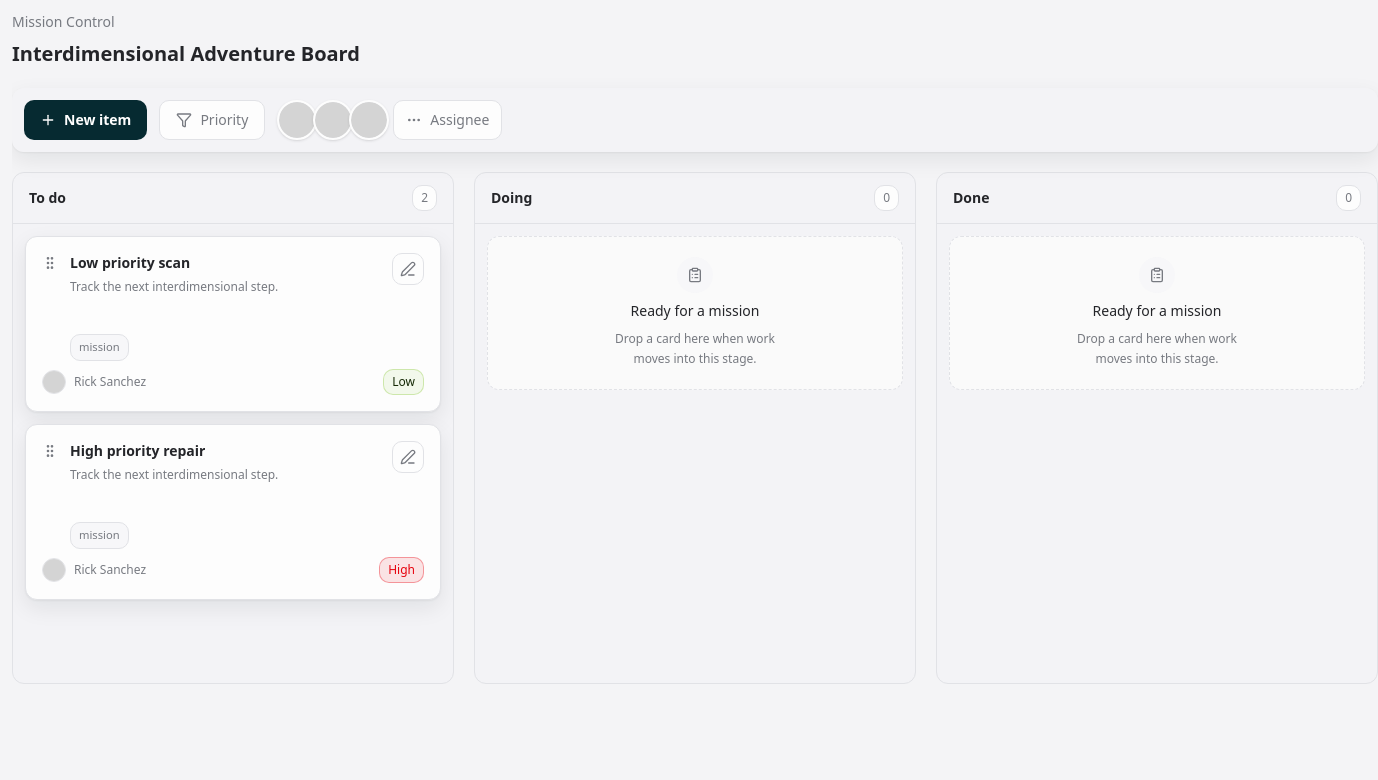
Scenario: KanbanBoard › filters cards by priority and shows the filtered empty state when nothing matches
Expected: the button "Low priority scan" is shown, [70,253,190,273]
Click the button "Priority". click: [212, 120]
box: [159,100,265,140]
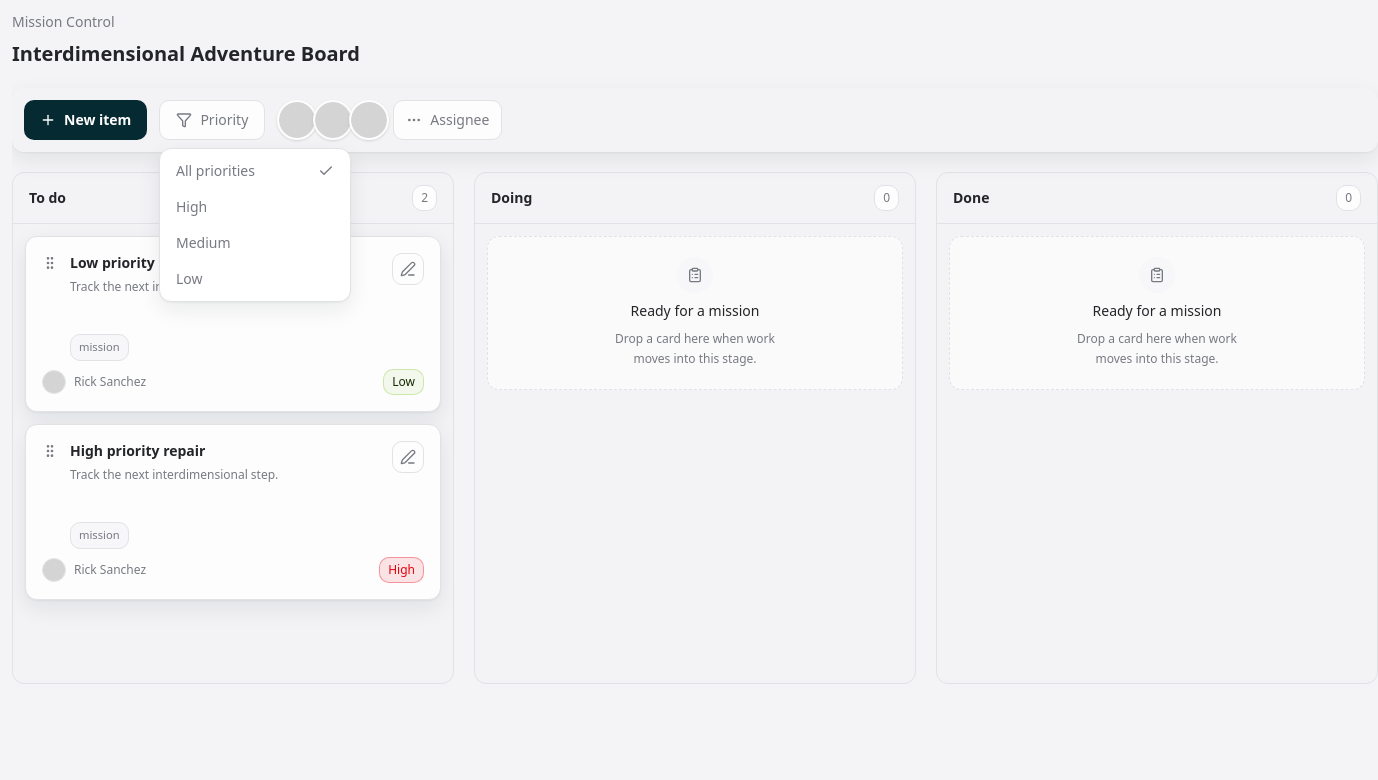
Click the menu item "High". click: [192, 206]
box: [176,197,207,216]
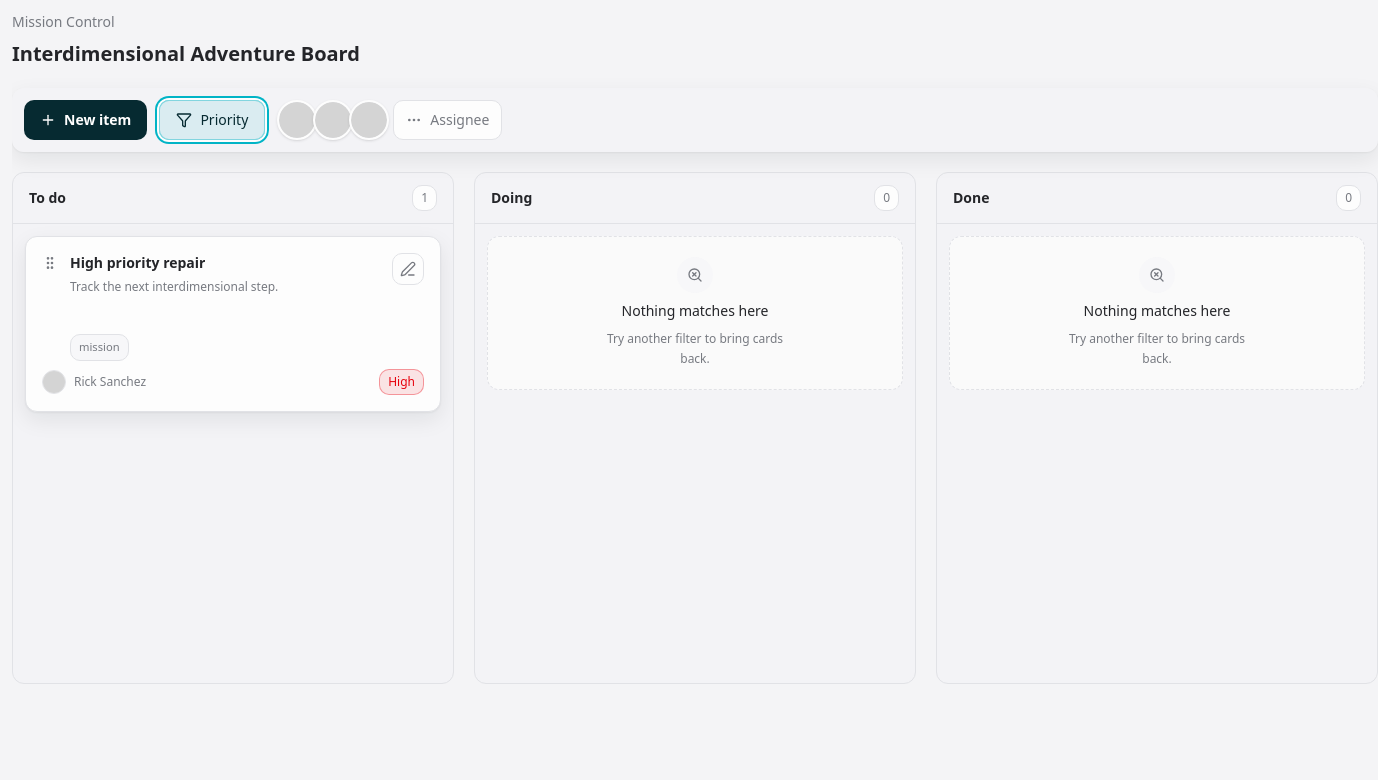
Expected: the button "High priority repair" is shown, [70,253,205,273]
Now the button "Low priority scan" is gone
Click the button "Priority". click: [212, 120]
box: [159,100,265,140]
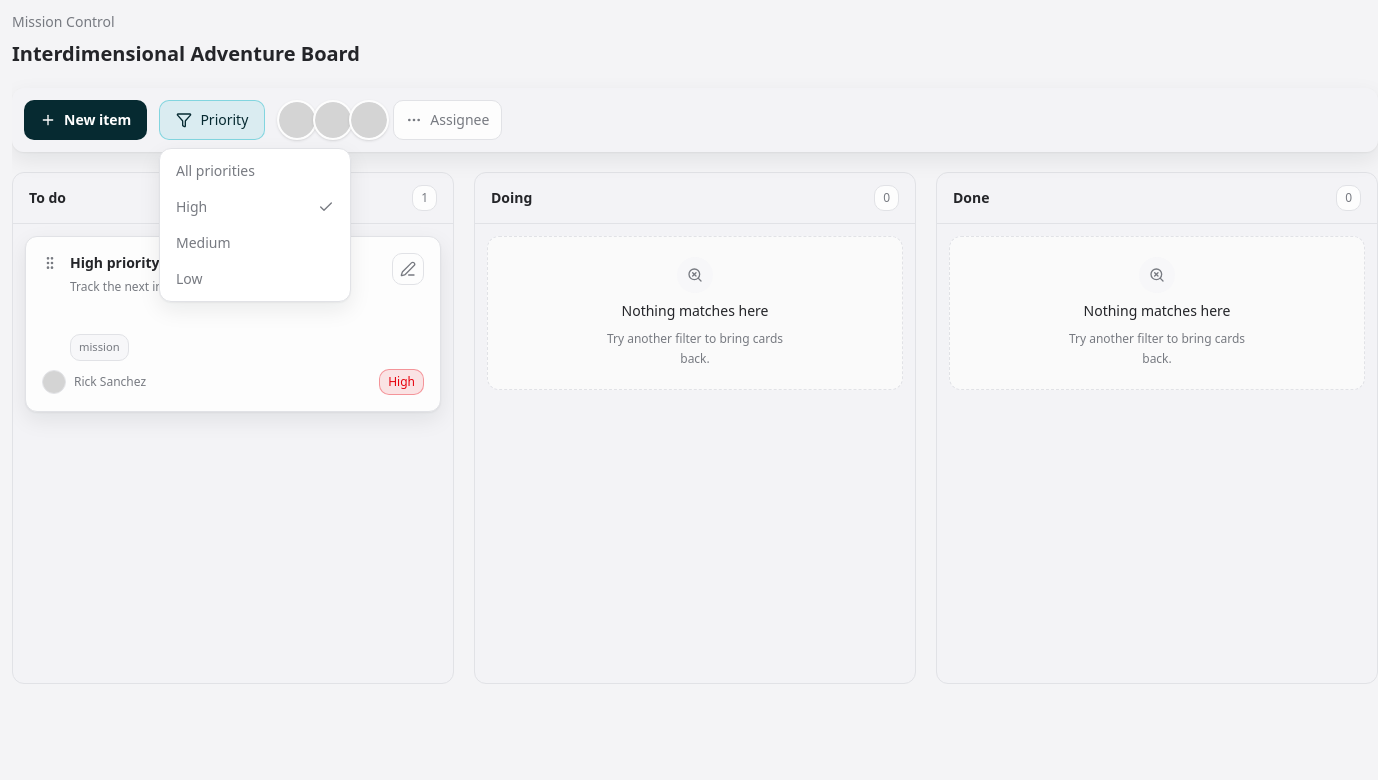
Click the menu item "Medium". click: [203, 242]
box: [176,233,231,252]
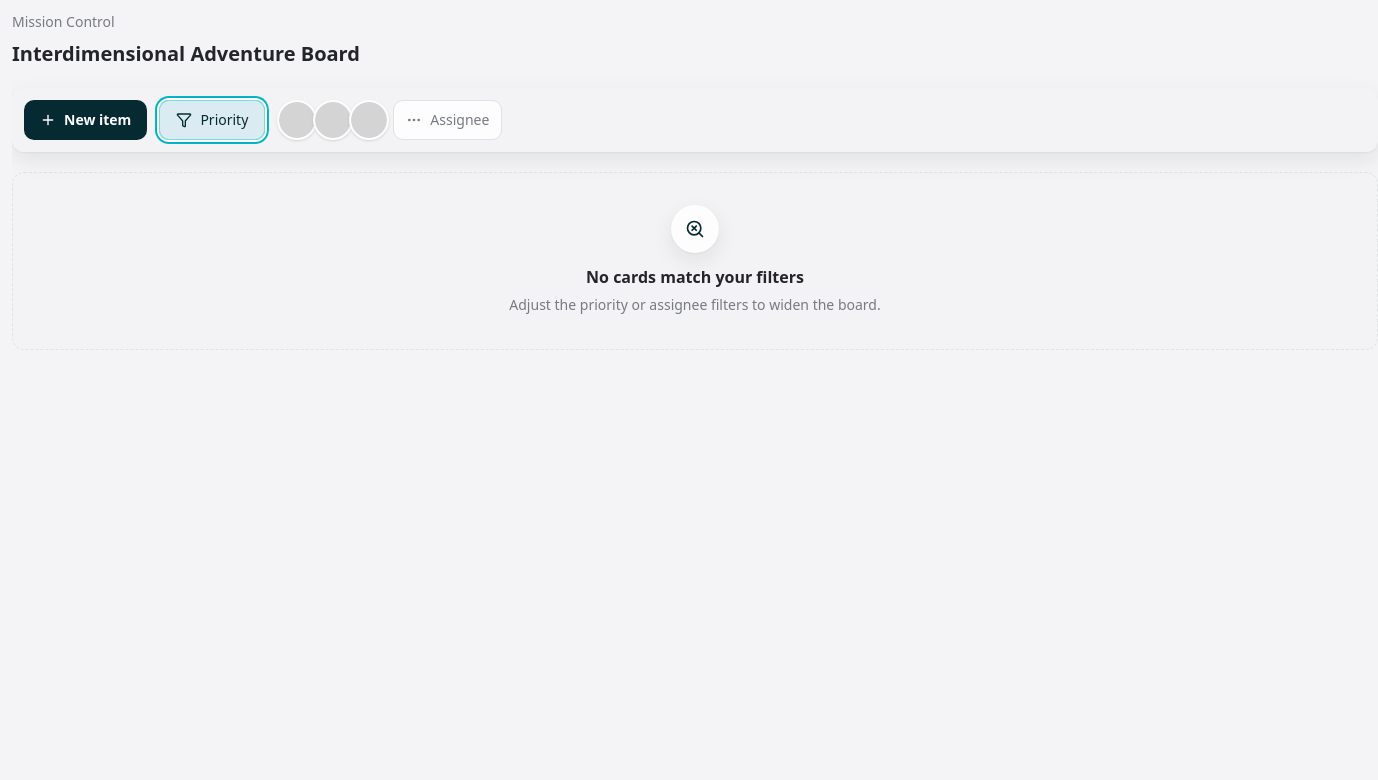
Now the heading "No cards match your filters" is shown, box [586,266,804,288]
